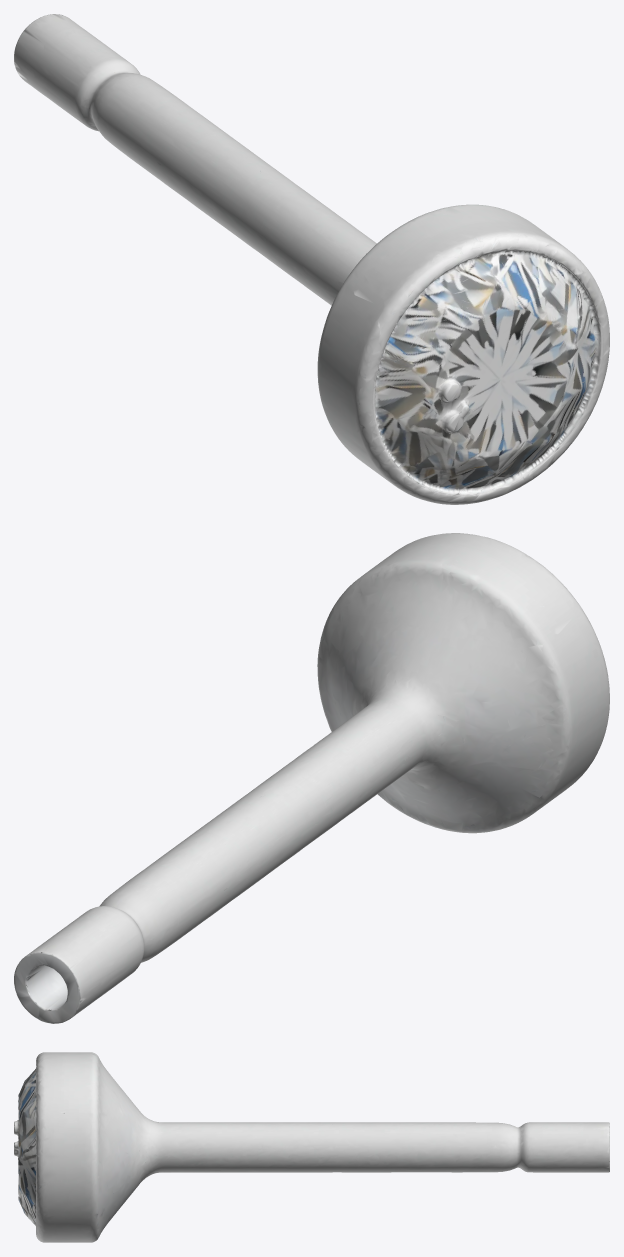
The model's file is ear_cz.glb.
The picture shows the model from 3 angles, top to bottom: view 1: azimuth 30°, elevation 25°; view 2: azimuth 150°, elevation 25°; view 3: azimuth 270°, elevation 25°; orthographic projection. The views are drawn at different scales.
Visible parts, largest first — view 1: Mesh_0; view 2: Mesh_0; view 3: Mesh_0.
Boxes of the visible parts, box(x1,y1,x2,y2) form: Mesh_0: box(14, 14, 609, 504); Mesh_0: box(14, 533, 609, 1023); Mesh_0: box(14, 1052, 609, 1242).
Size of the model in its own units: 0.611 by 0.611 by 1.91.
Materials: 1 (1 with a texture image).
